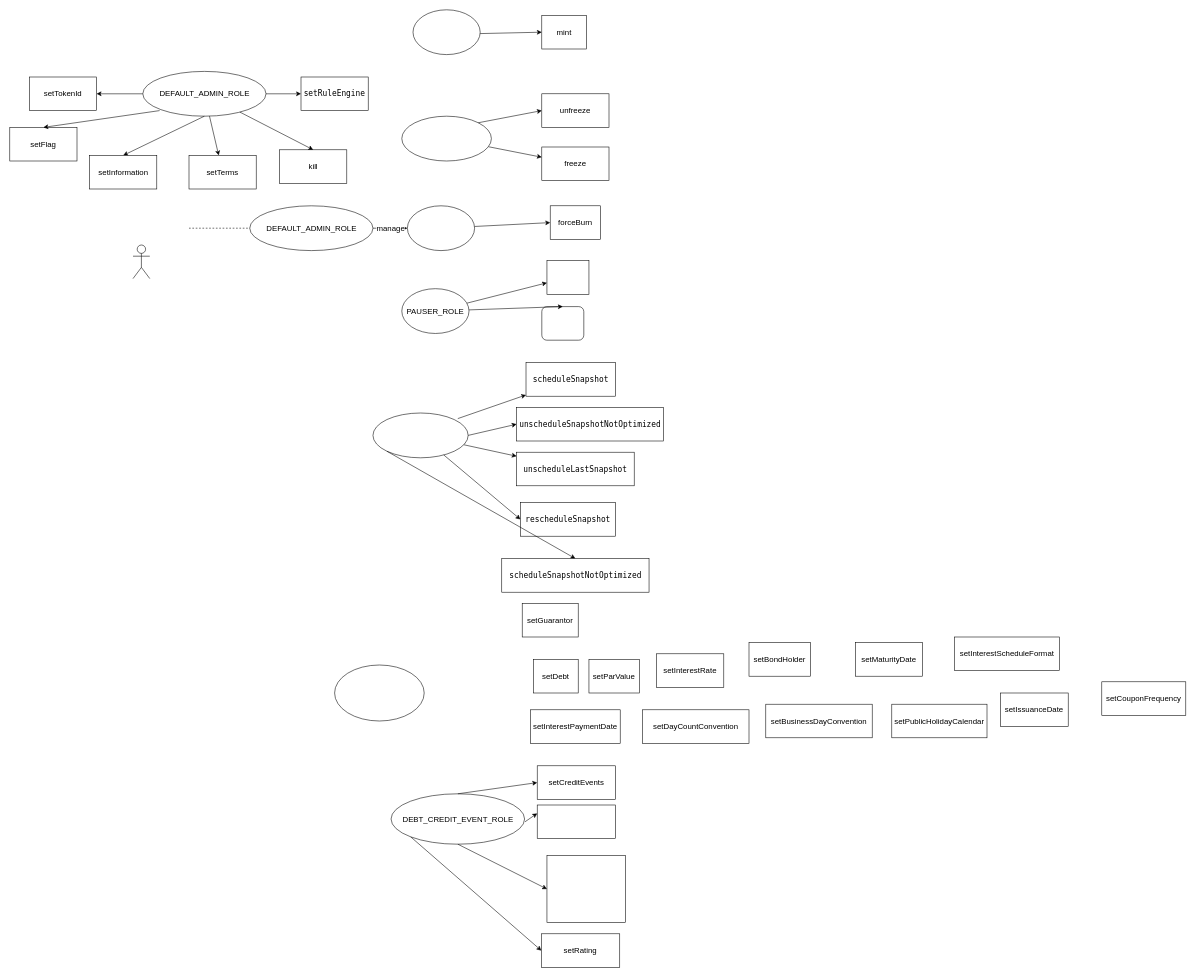
The diagram is 1196 pixels wide and 977 high, and some of its shapes have lost their labels. Each missing label, with the centre of its shape:
"Admin" goes at pixel 141 261.
"BURNER_ROLE" goes at pixel 441 228.
"DEBT_ROLE" goes at pixel 379 692.
"ENFORCER_ROLE" goes at pixel 446 138.
"MINTER_ROLE" goes at pixel 446 32.
"pause" goes at pixel 567 277.
"setFlagDefault" goes at pixel 576 821.
"setFlagRedeemed" goes at pixel 585 889.
"SNAPSHOOTER_ROLE" goes at pixel 420 435.
"unpause" goes at pixel 562 323.
